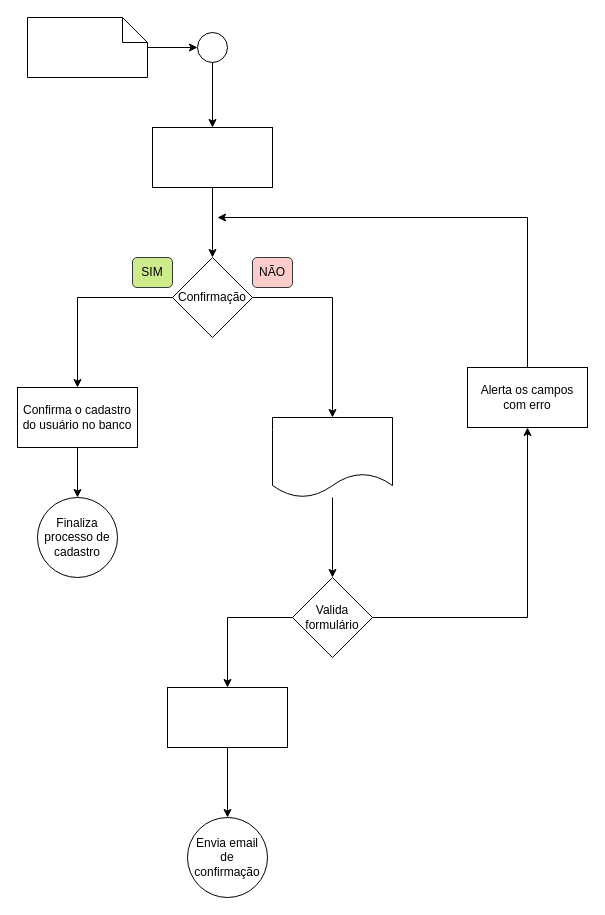
This 605x915 diagram has some shape labels left out. Here are the shapes that lost their labels. From the top down, the centre of each, then its label:
(x=87, y=47): Registro de usuário
(x=212, y=157): Redirecionar para registro
(x=332, y=457): Formulário de registro
(x=227, y=717): Salva dados no banco com a flag de confirmação nula
